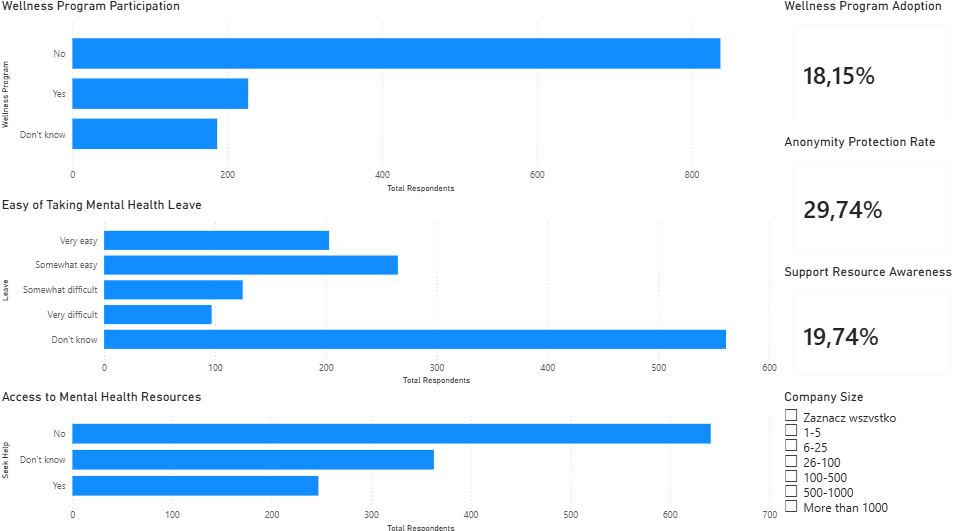

The page's visual inventory and layout, read from the dashboard file:
{"tool":"powerbi","page":{"name":"Employer Support","canvas":[1280,720],"ordinal":2},"visuals":[{"type":"listSlicer","title":"Company Size","fields":{"Values":["survey_clean.no_employees"]},"box":[1037.5,524.3,242.5,195.2],"z":0},{"type":"barChart","title":"Access to Mental Health Resources","fields":{"Category":["survey_clean.seek_help"],"Y":["survey_clean.Total Respondents"]},"box":[0,524.3,1037.5,195.2],"z":3000},{"type":"cardVisual","title":"Support Resource Awareness","fields":{"Data":["survey_clean.% seek help"]},"box":[1037,360,243,165],"z":6000},{"type":"barChart","title":"Easy of Taking Mental Health Leave","fields":{"Category":["survey_clean.leave"],"Y":["survey_clean.Total Respondents"]},"box":[0,269.8,1037.1,254.6],"z":6250},{"type":"cardVisual","title":"Anonymity Protection Rate","fields":{"Data":["survey_clean.% anonymity"]},"box":[1037.5,187.2,242.5,173.1],"z":6312},{"type":"cardVisual","title":"Wellness Program Adoption","fields":{"Data":["survey_clean.% wellnees program"]},"box":[1037.5,7,242.5,180.1],"z":6375},{"type":"barChart","title":"Wellness Program Participation","fields":{"Category":["survey_clean.wellness_program"],"Y":["survey_clean.Total Respondents"]},"box":[0,6.9,1037.1,262.7],"z":6500}]}

Visuals, with their boxes in screenshot pixels (x1, y1, x2, y2), scaled from the page's 1280x720 canvas onto the 957x531 screenshot:
"Company Size" listSlicer: crop(776, 387, 956, 530)
"Access to Mental Health Resources" barChart: crop(0, 387, 776, 530)
"Support Resource Awareness" cardVisual: crop(775, 266, 956, 387)
"Easy of Taking Mental Health Leave" barChart: crop(0, 199, 775, 387)
"Anonymity Protection Rate" cardVisual: crop(776, 138, 956, 266)
"Wellness Program Adoption" cardVisual: crop(776, 5, 956, 138)
"Wellness Program Participation" barChart: crop(0, 5, 775, 199)
